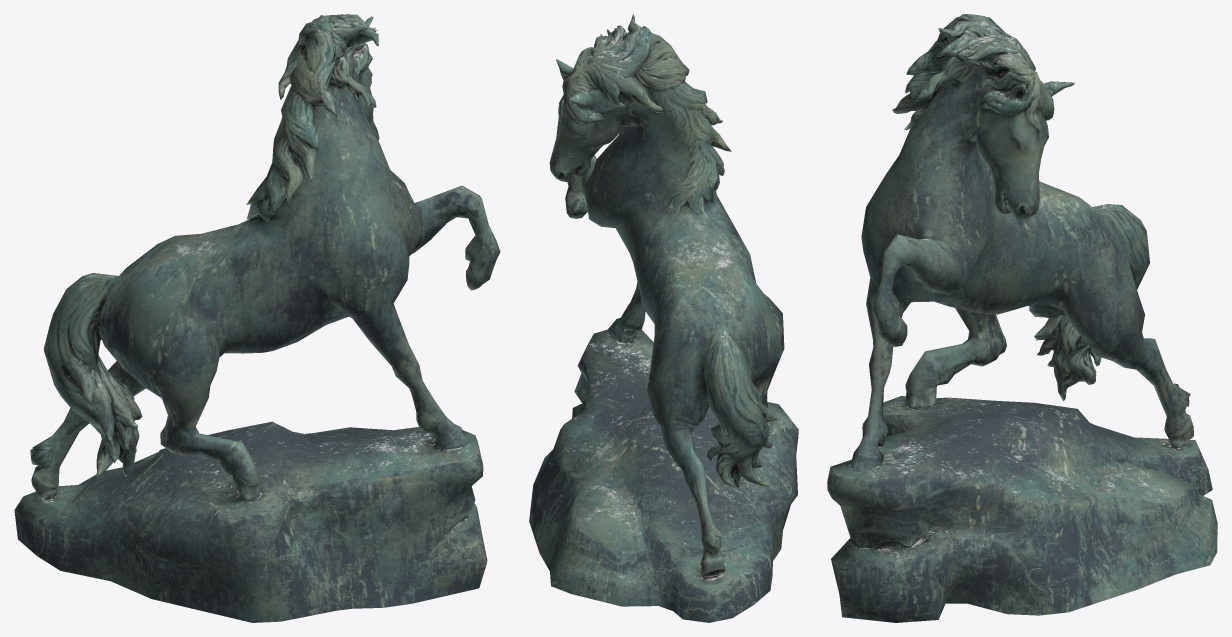
File: Horse_Copper2.glb
3 views of the same model, side by side, from view 1: azimuth 30°, elevation 25°; view 2: azimuth 150°, elevation 25°; view 3: azimuth 270°, elevation 25° (orthographic). The views are drawn at different scales.
Visible parts, largest first — view 1: Horse Copper; view 2: Horse Copper; view 3: Horse Copper.
Boxes of the visible parts, <box> form: Horse Copper: <box>14,14,500,622</box>; Horse Copper: <box>529,14,798,622</box>; Horse Copper: <box>827,14,1217,622</box>.
Bounding box in the file's own units: 2.34 × 3.61 × 2.29.
Materials: 1 (1 with a texture image).
